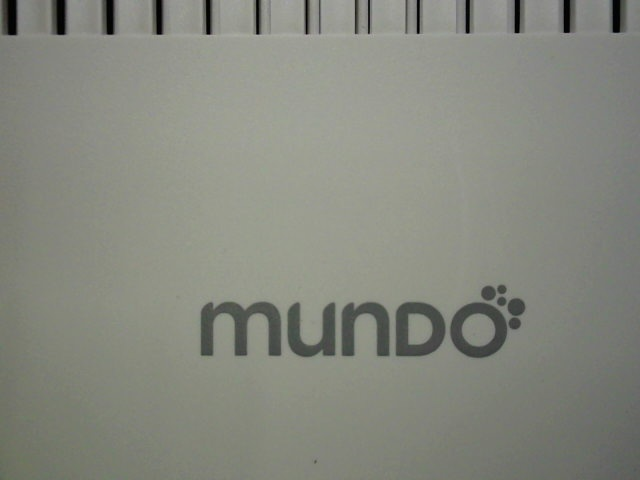BI_MUNDO: (187, 270, 529, 360)
